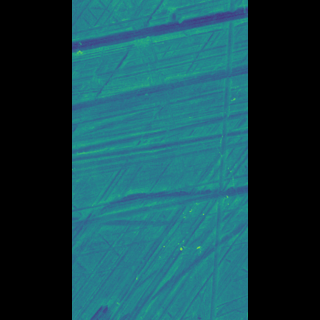Loch: (139, 0, 186, 320), (186, 0, 203, 320)
